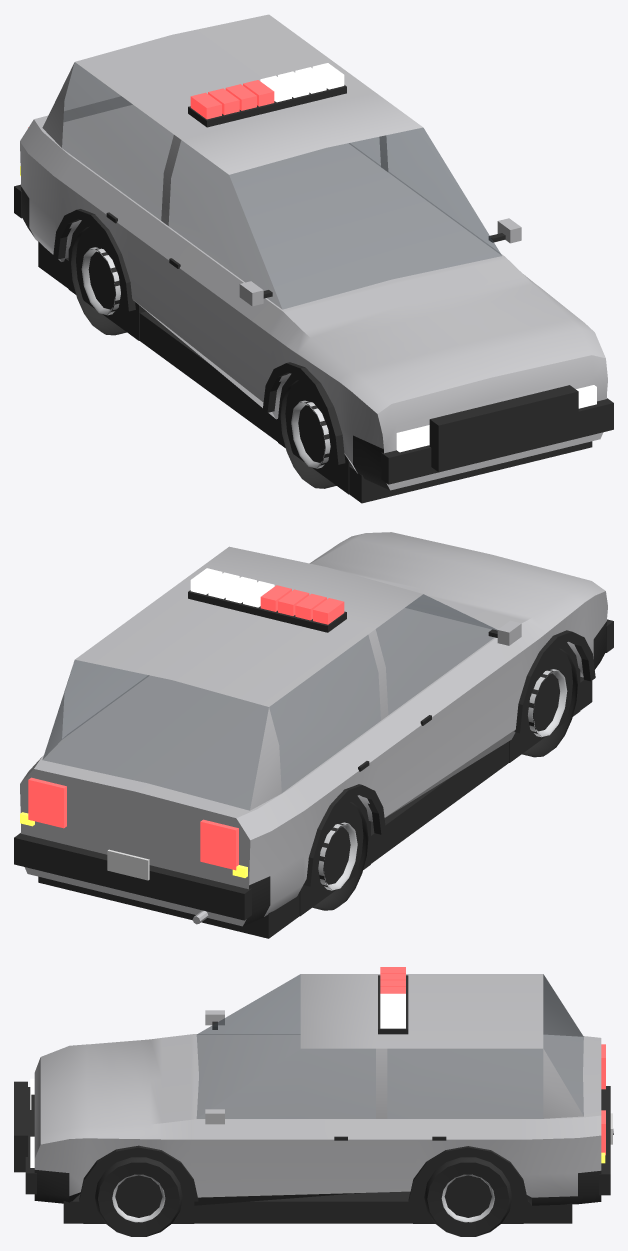
File: police_suv.glb
The picture shows the model from 3 angles, top to bottom: view 1: azimuth 30°, elevation 25°; view 2: azimuth 150°, elevation 25°; view 3: azimuth 270°, elevation 25°; orthographic projection. The views are drawn at different scales.
Parts seen in each view (by area): view 1: body, lightbar, wheel_fl, wheel_rl; view 2: body, lightbar, wheel_rl, wheel_fl; view 3: body, wheel_rr, wheel_fr, lightbar.
Part boxes in pixels (x1,y1,x2,y2): body: (14, 14, 613, 503); lightbar: (188, 63, 346, 127); wheel_fl: (280, 380, 336, 488); wheel_rl: (71, 226, 126, 335); body: (14, 532, 613, 938); lightbar: (188, 568, 346, 632); wheel_rl: (312, 802, 368, 910); wheel_fl: (522, 648, 577, 757); body: (14, 974, 613, 1223); wheel_rr: (424, 1157, 512, 1236); wheel_fr: (95, 1157, 182, 1236); lightbar: (378, 967, 408, 1034).
Size of the model in its own units: 2.12 by 1.89 by 5.19.
